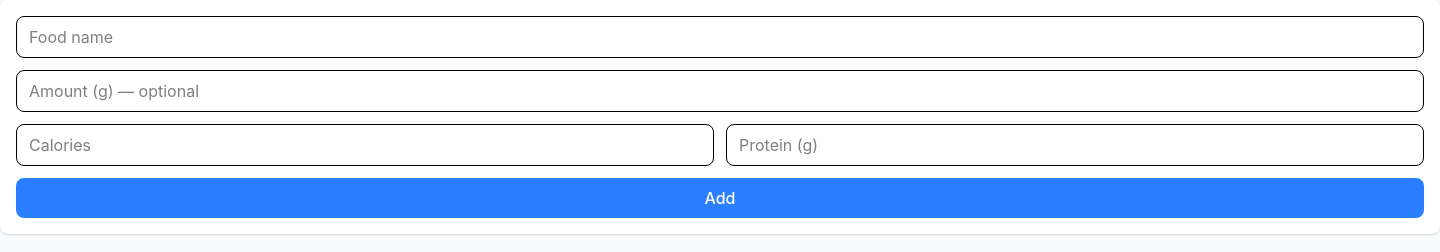
Test: FoodEntryForm › reverts to catalog values when amount is cleared
The image size is (1440, 252).
Click the field labelled "Food name" at (720,37), box x1=16 y1=16 x2=1424 y2=58
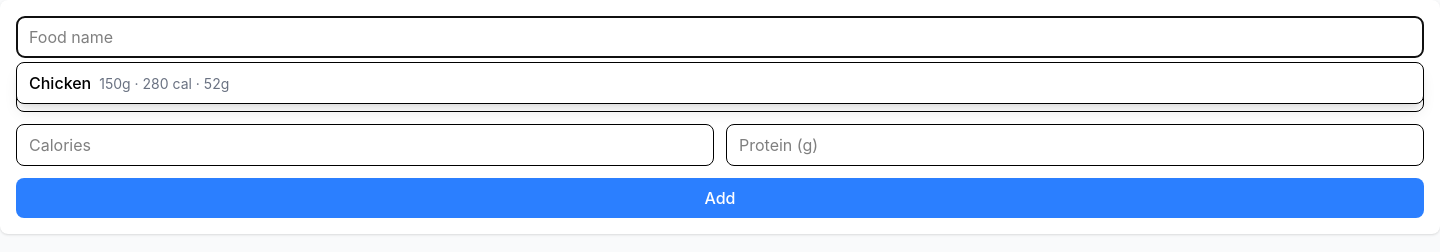
Click the text "Chicken" at (60,83), box x1=29 y1=73 x2=91 y2=93
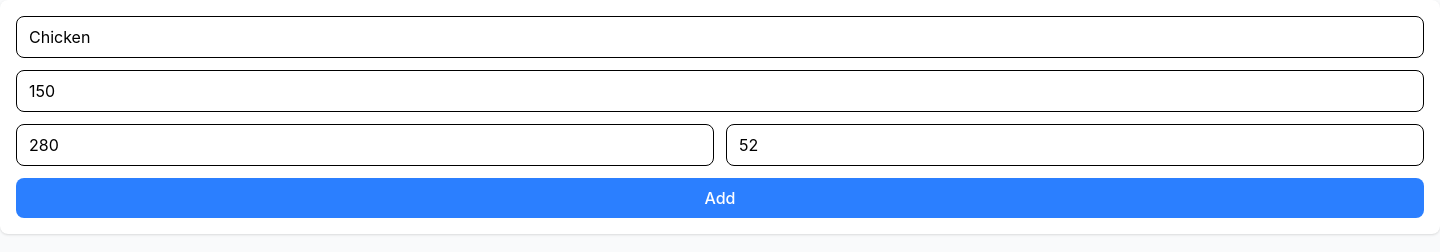
# Change amount, then clear it
Replace the text in the number field named "Amount (g)" with "200" at (720,91), box x1=16 y1=70 x2=1424 y2=112
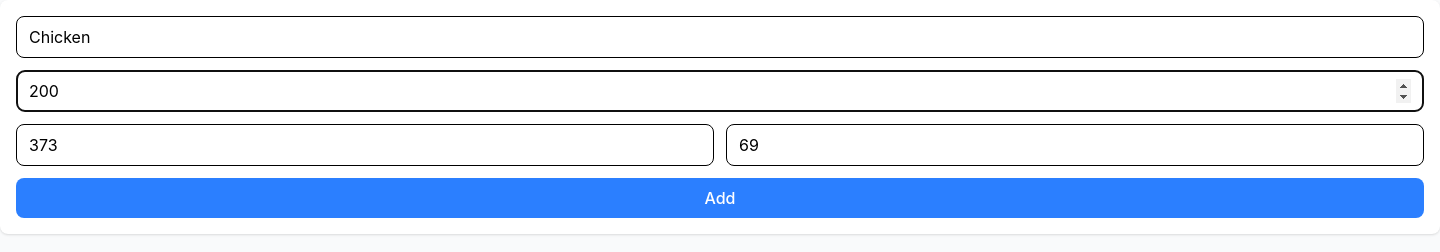
Result: the number field named "Calories" holds "373" at x1=16 y1=124 x2=714 y2=166
Clear the number field named "Amount (g)" at (720,91), box x1=16 y1=70 x2=1424 y2=112
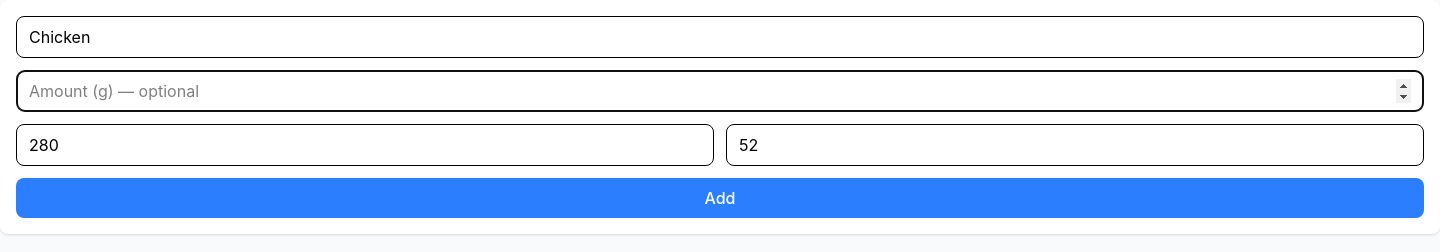
Result: the number field named "Calories" holds "280" at x1=16 y1=124 x2=714 y2=166
Result: the number field named "Protein (g)" holds "52" at x1=726 y1=124 x2=1424 y2=166
